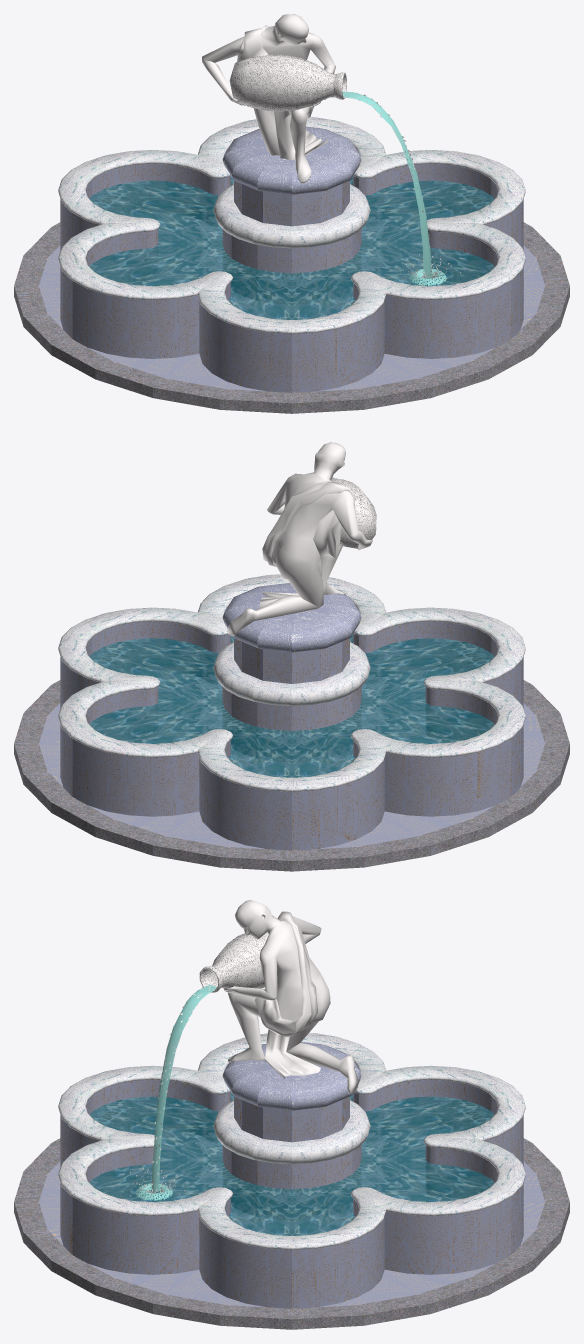
The model's file is Fountain1.fbx.
3 renders of one model, top to bottom at view 1: azimuth 30°, elevation 25°; view 2: azimuth 150°, elevation 25°; view 3: azimuth 270°, elevation 25°, orthographic.
Parts seen in each view (by area): view 1: border_fountain11, border_fountain9, border_fountain8, border_fountain7, Statue, border_fountain3, border_fountain10, border_fountain12, border_fountain5, border_fountain4, border_fountain6, fountain_base4 (+18 smaller); view 2: border_fountain12, border_fountain1, border_fountain4, border_fountain3, Statue, border_fountain6, border_fountain7, border_fountain11, border_fountain2, border_fountain8, border_fountain10, fountain_base12 (+17 smaller); view 3: Statue, border_fountain2, border_fountain5, border_fountain10, border_fountain6, border_fountain4, border_fountain8, border_fountain1, border_fountain9, border_fountain3, border_fountain7, fountain_base10 (+18 smaller).
Boxes of the visible parts, x1,y1,x2,y2 form: border_fountain11: (71,153,280,358); border_fountain9: (305,152,512,358); border_fountain8: (197,156,291,392); border_fountain7: (292,158,386,392); Statue: (202,14,346,183); border_fountain3: (72,129,263,257); border_fountain10: (310,128,511,257); border_fountain12: (58,147,268,338); border_fountain5: (311,147,525,338); border_fountain4: (58,137,265,274); border_fountain6: (319,137,525,274); fountain_base4: (153,354,230,409); border_fountain12: (302,610,512,816); border_fountain1: (71,617,274,816); border_fountain4: (292,612,386,850); border_fountain3: (197,614,291,850); Statue: (227,442,376,636); border_fountain6: (72,586,274,715); border_fountain7: (323,593,511,715); border_fountain11: (313,605,525,796); border_fountain2: (58,605,259,796); border_fountain8: (323,595,525,732); border_fountain10: (58,595,261,732); fountain_base12: (153,812,230,867); Statue: (199,900,358,1094); border_fountain2: (308,1070,512,1274); border_fountain5: (71,1068,277,1274); border_fountain10: (292,1075,386,1308); border_fountain6: (197,1073,291,1308); border_fountain4: (316,1044,511,1173); border_fountain8: (72,1044,266,1173); border_fountain1: (314,1064,525,1254); border_fountain9: (58,1063,272,1254); border_fountain3: (331,1053,525,1190); border_fountain7: (58,1055,267,1190); fountain_base10: (153,1270,229,1325).
Size of the model in its own units: 2.4 by 1.43 by 2.4.
